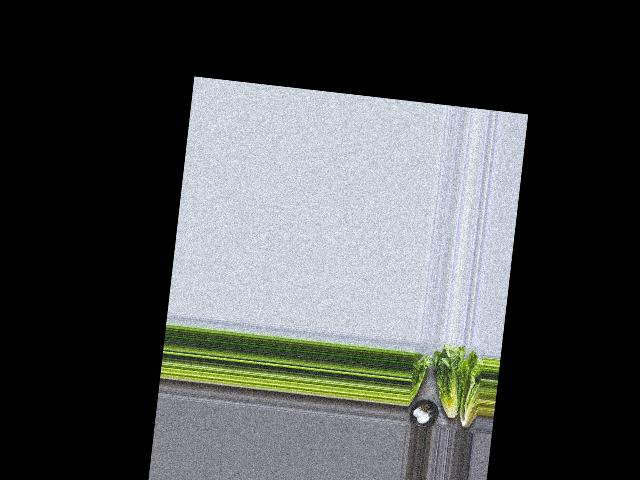lettuce: (454, 355, 483, 433)
